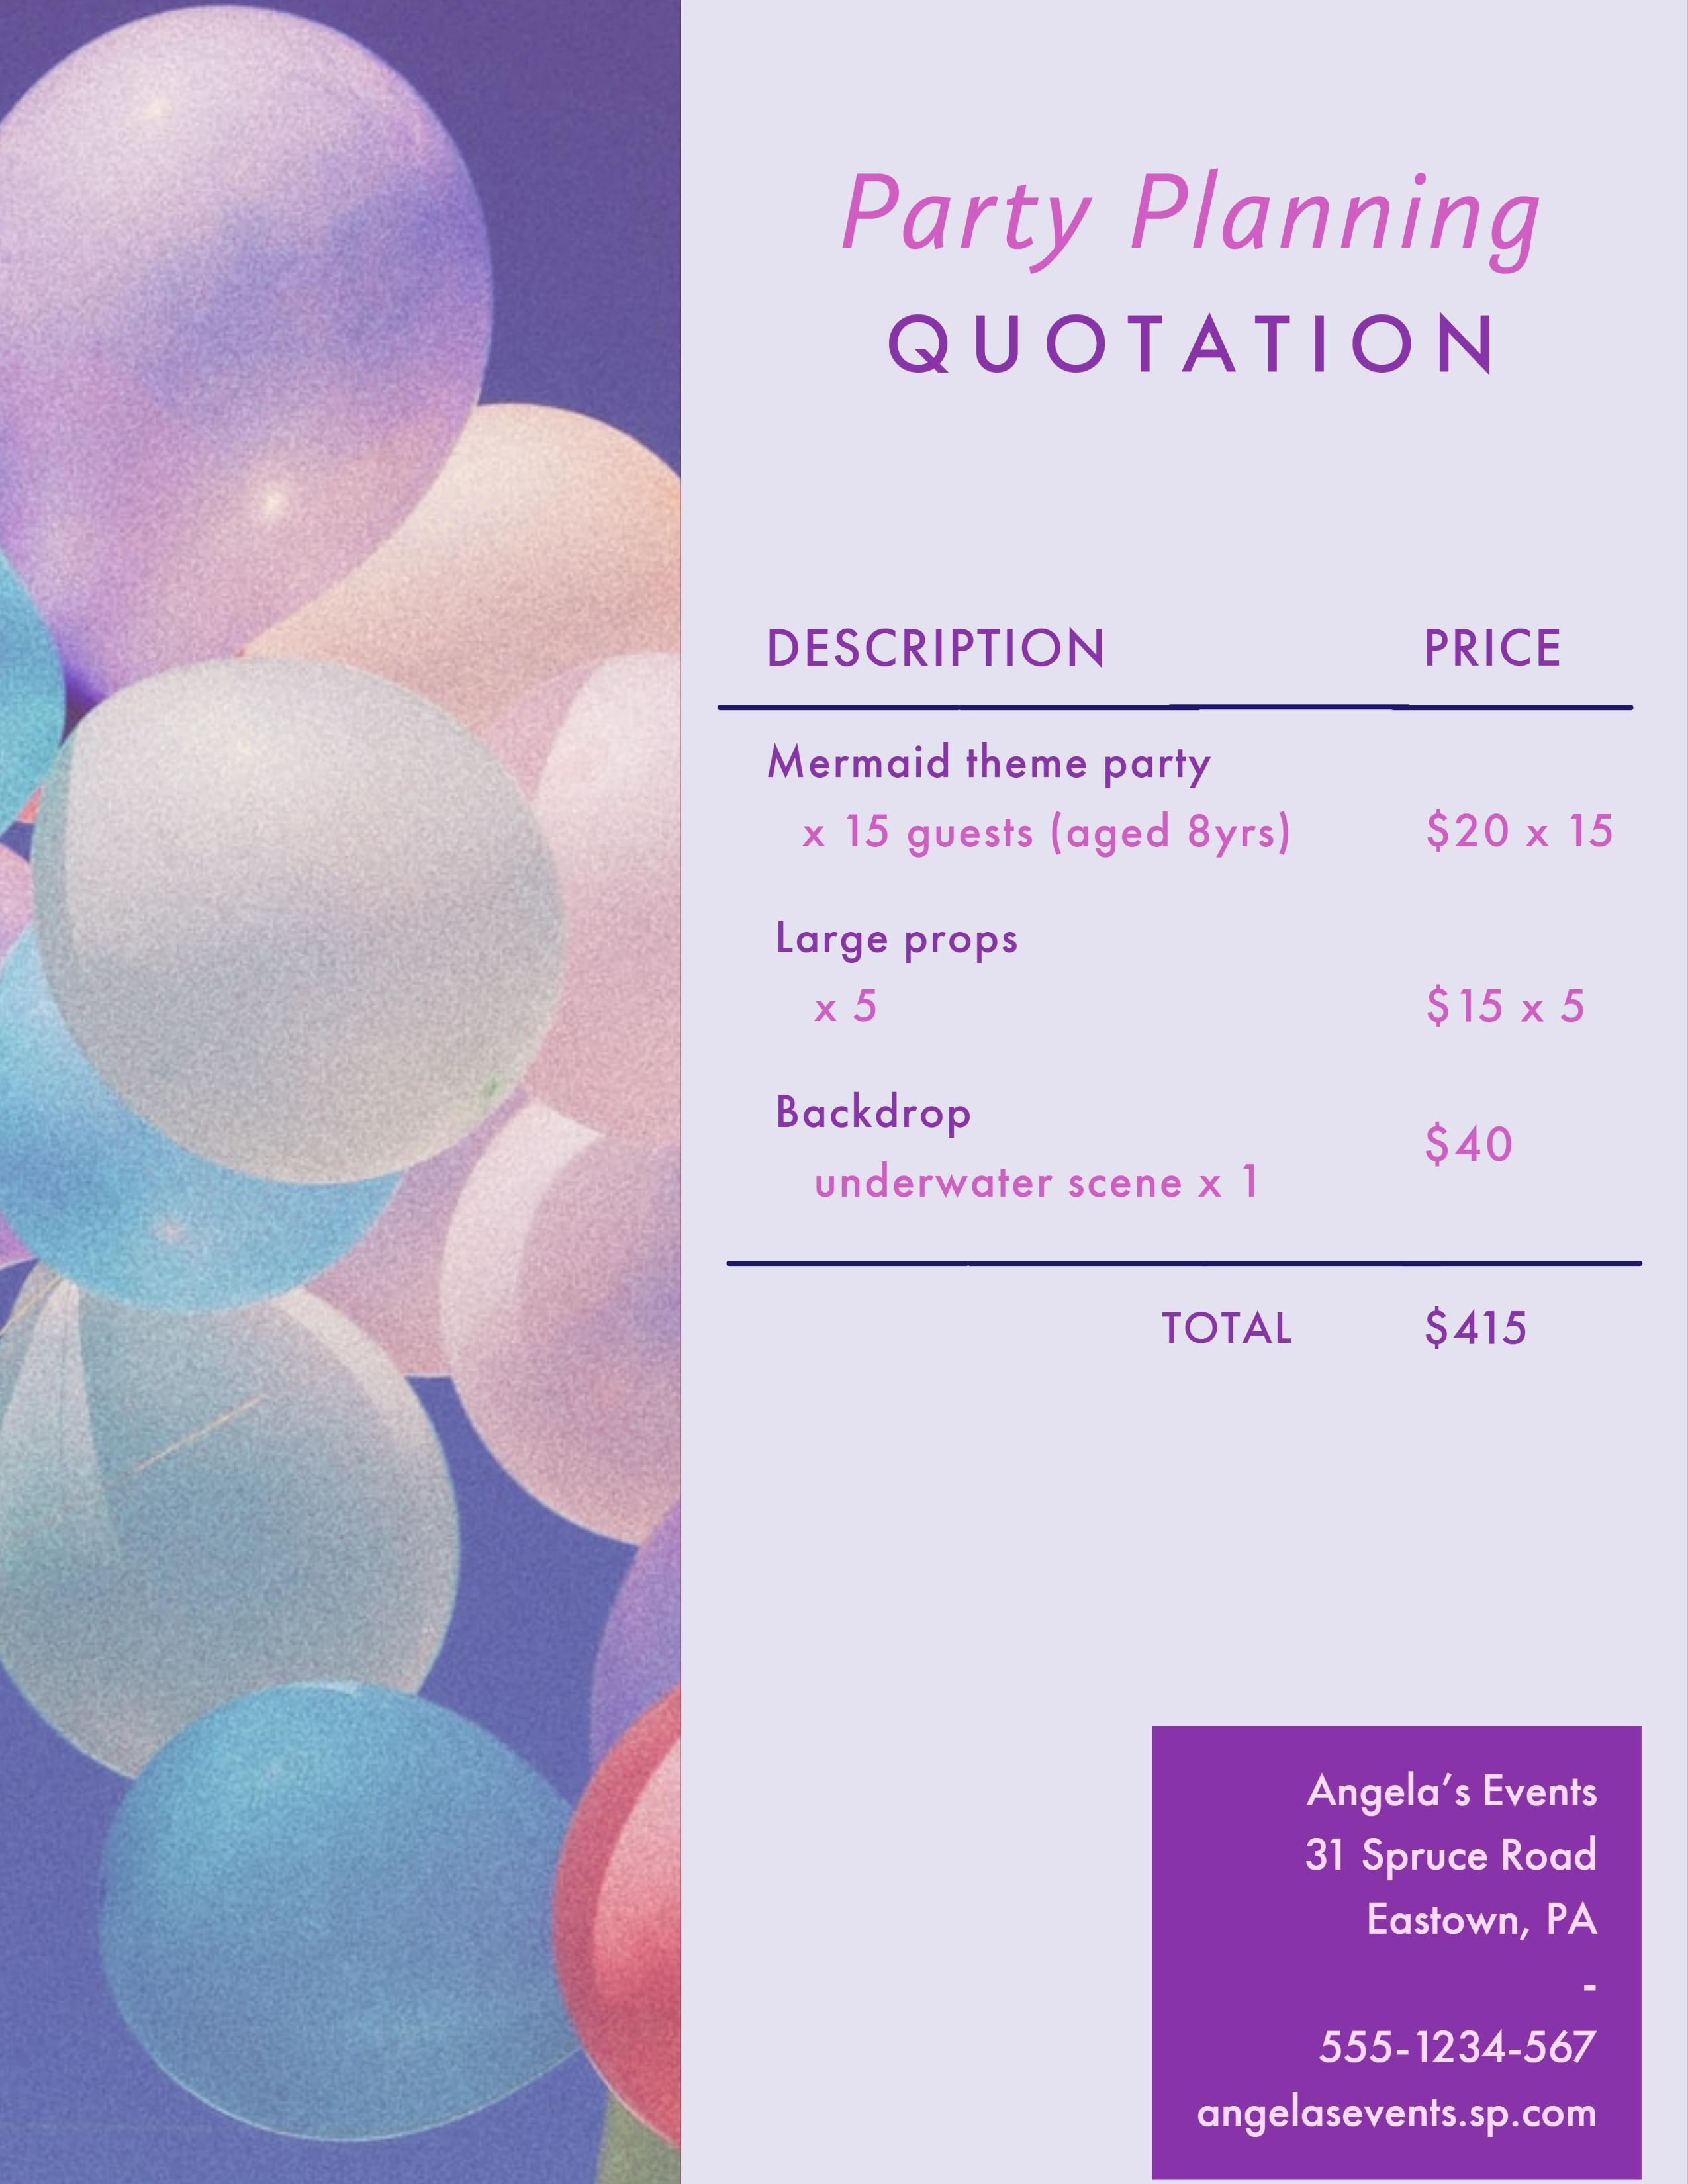ROI: (722, 622, 1635, 1252), (1172, 1750, 1626, 2150), (1129, 1294, 1569, 1351)
